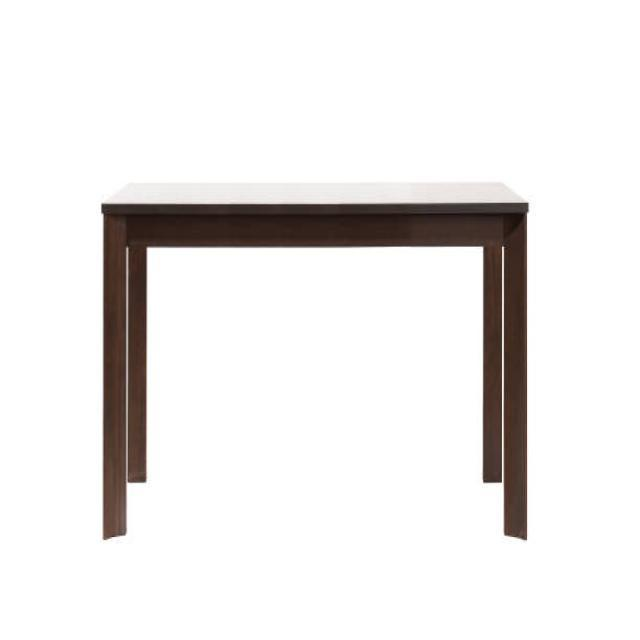table: (100, 180, 530, 542)
